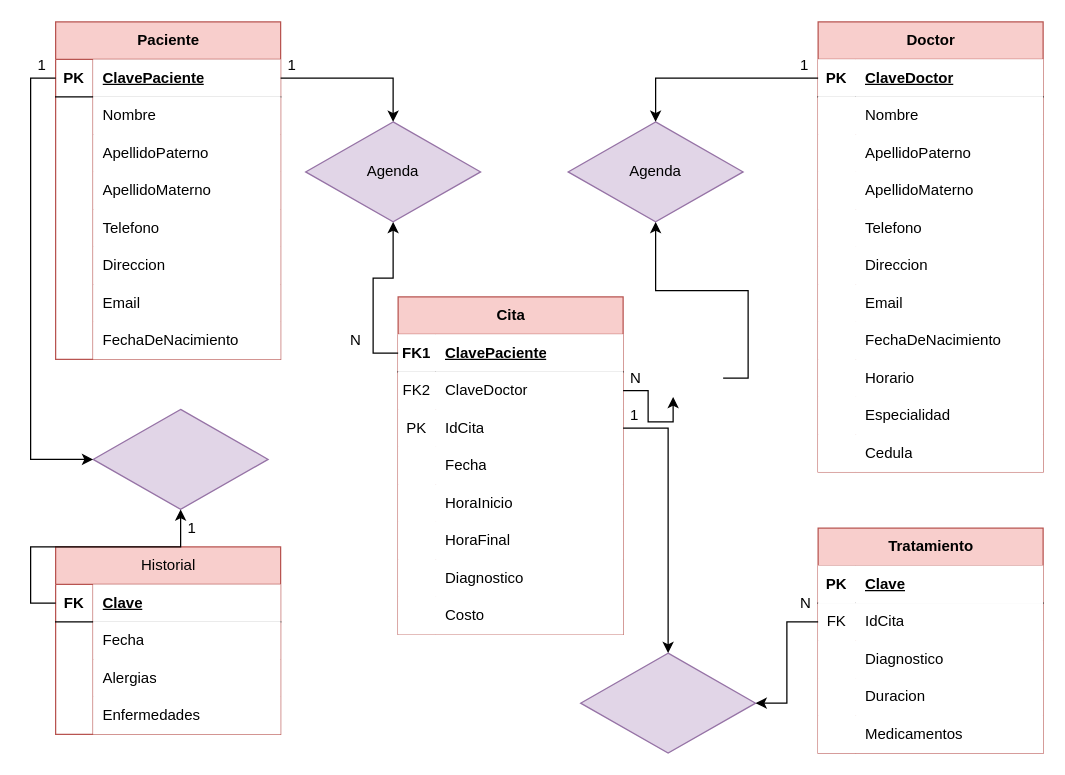
The diagram is 1065 pixels wide and 775 high, and some of its shapes have lost their labels. Here are the shapes that lost their labels. From the top down, the centre of each, then its label:
At (x=180, y=458): "Registra".
At (x=667, y=702): "Genera".
